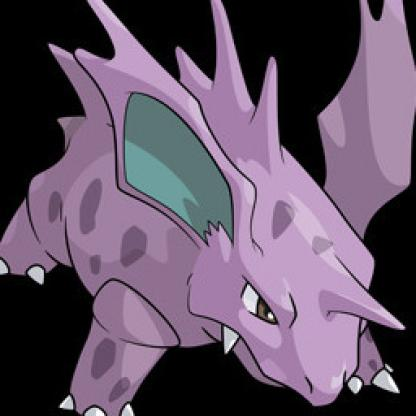Nidorino: (18, 1, 416, 416)
